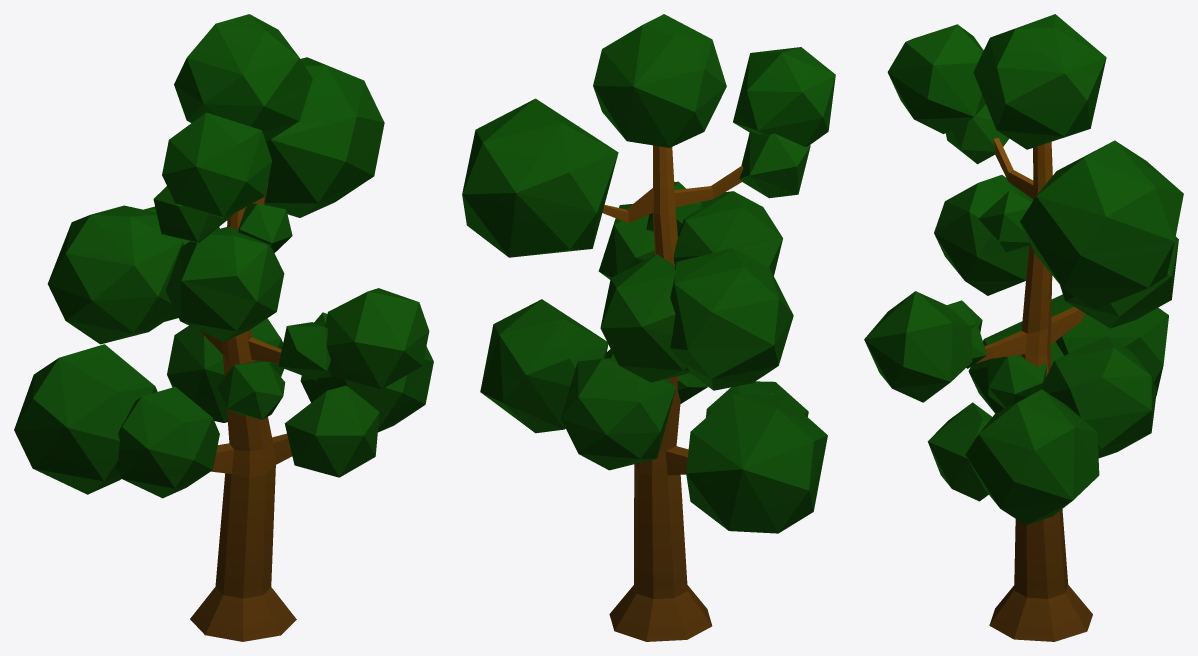
Rendered from arbol10.fbx.
The picture shows the model from 3 angles, left to right: view 1: azimuth 30°, elevation 25°; view 2: azimuth 150°, elevation 25°; view 3: azimuth 270°, elevation 25°; orthographic projection.
Parts seen in each view (by area): view 1: Circle.011; view 2: Circle.011; view 3: Circle.011.
Boxes of the visible parts, bbox=[...] form: Circle.011: bbox=[14, 14, 433, 641]; Circle.011: bbox=[462, 14, 835, 641]; Circle.011: bbox=[864, 14, 1183, 641].
Bounding box in the file's own units: 514 × 802 × 389.
1 material, 1 textured.
